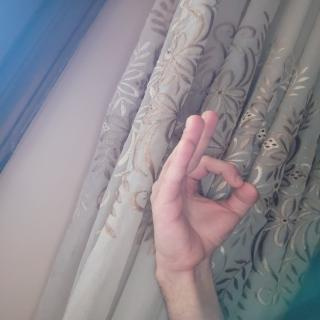Space: (143, 103, 259, 270)
